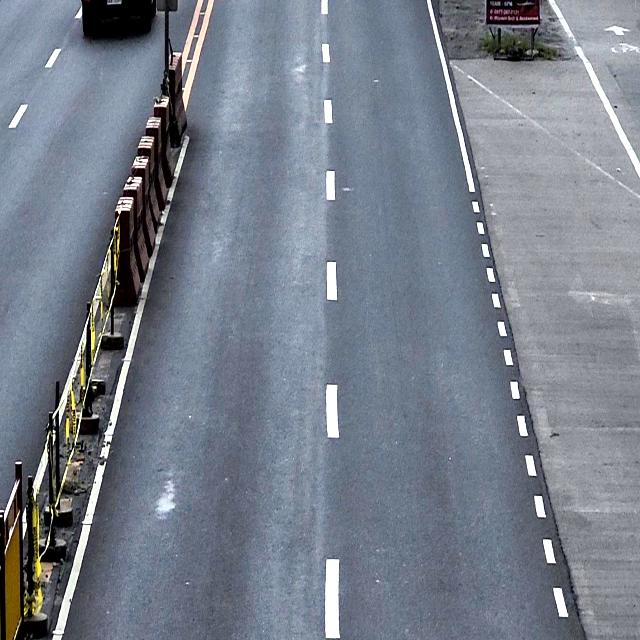Car: (80, 0, 157, 37)
License-Plate: (108, 0, 122, 5)
